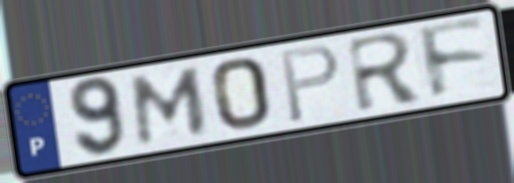0: (207, 56, 276, 133)
9: (66, 74, 130, 162)
F: (415, 15, 491, 104)
M: (130, 64, 211, 149)
P: (277, 41, 343, 127)
R: (343, 29, 428, 116)
